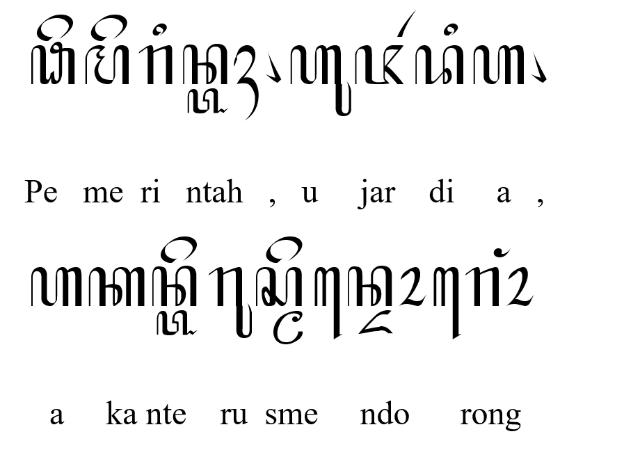P: (30, 42, 76, 84)
_d: (358, 309, 392, 334)
_h1: (233, 44, 259, 122)
_m: (273, 311, 303, 345)
_r1: (396, 11, 416, 38)
_t: (156, 309, 198, 336), (187, 88, 229, 114)
d: (414, 45, 464, 85)
e: (265, 236, 303, 265), (36, 14, 74, 42), (90, 14, 128, 42), (160, 235, 198, 263)
e1: (314, 266, 342, 340), (433, 266, 461, 340)
h: (472, 44, 524, 84), (30, 266, 82, 306)
hu: (290, 45, 352, 117)
i: (152, 22, 168, 36), (444, 24, 458, 36)
j: (354, 44, 404, 86)
k: (88, 267, 146, 307)
kom: (530, 49, 548, 83), (264, 50, 282, 83)
m: (84, 44, 130, 86)
n: (151, 265, 197, 307), (347, 265, 393, 307), (182, 44, 228, 84)
ng: (494, 248, 511, 258)
o: (398, 266, 427, 306), (506, 266, 534, 306)
r: (138, 44, 174, 86), (464, 267, 500, 307)
ru: (208, 266, 252, 338)
s: (255, 266, 302, 306)
